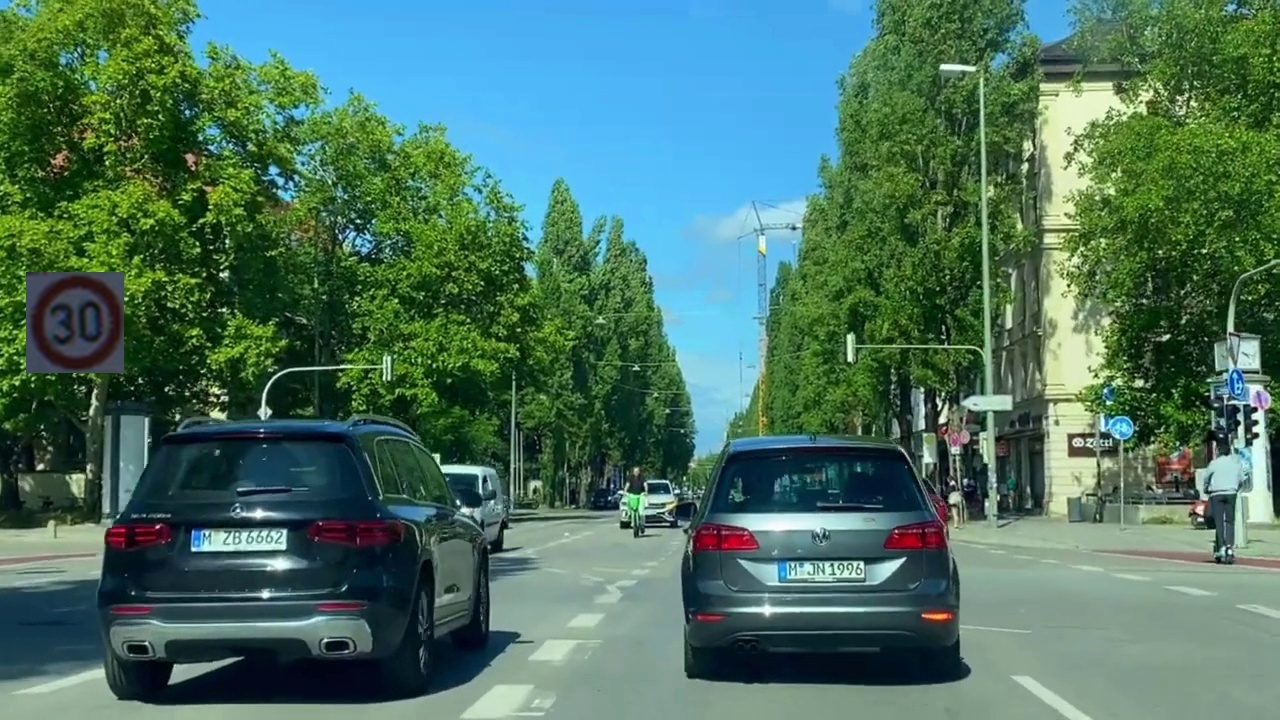Speed 30: (26, 272, 124, 373)
